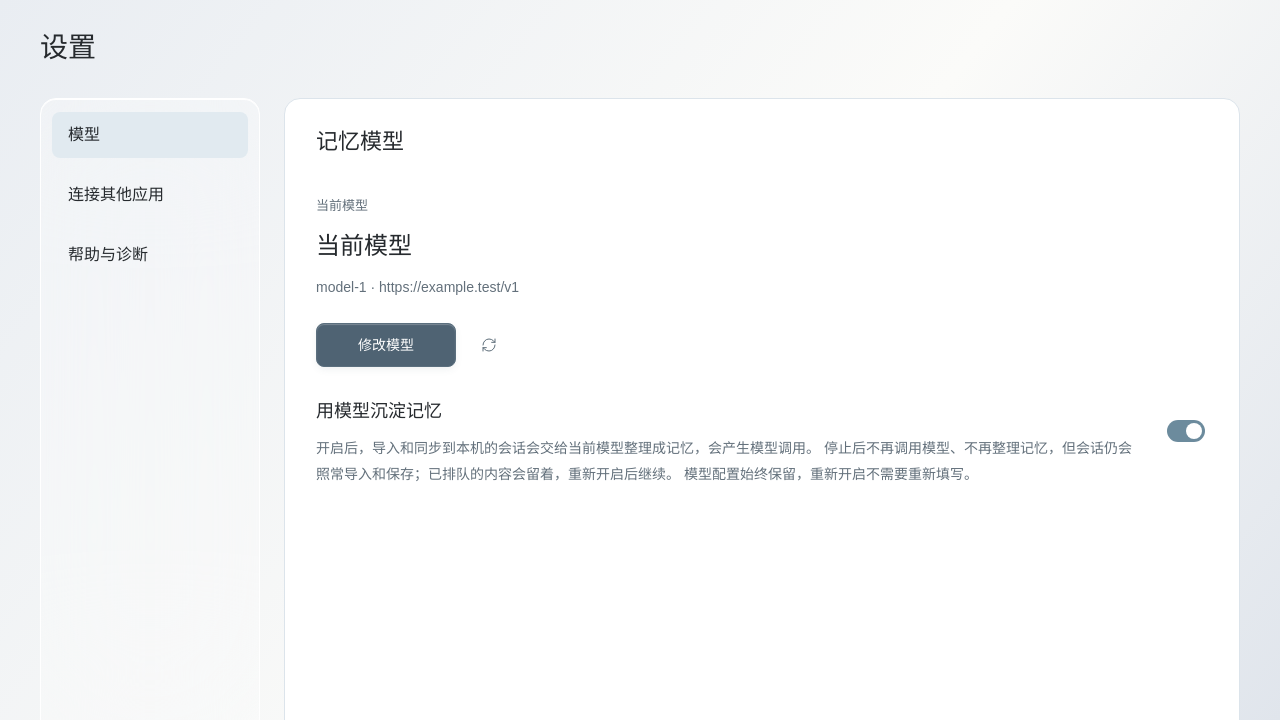
Scenario: shows the help and diagnostics group by default and hides it when opted out
Click the button "帮助与诊断": [150, 255] box x1=52 y1=232 x2=248 y2=278
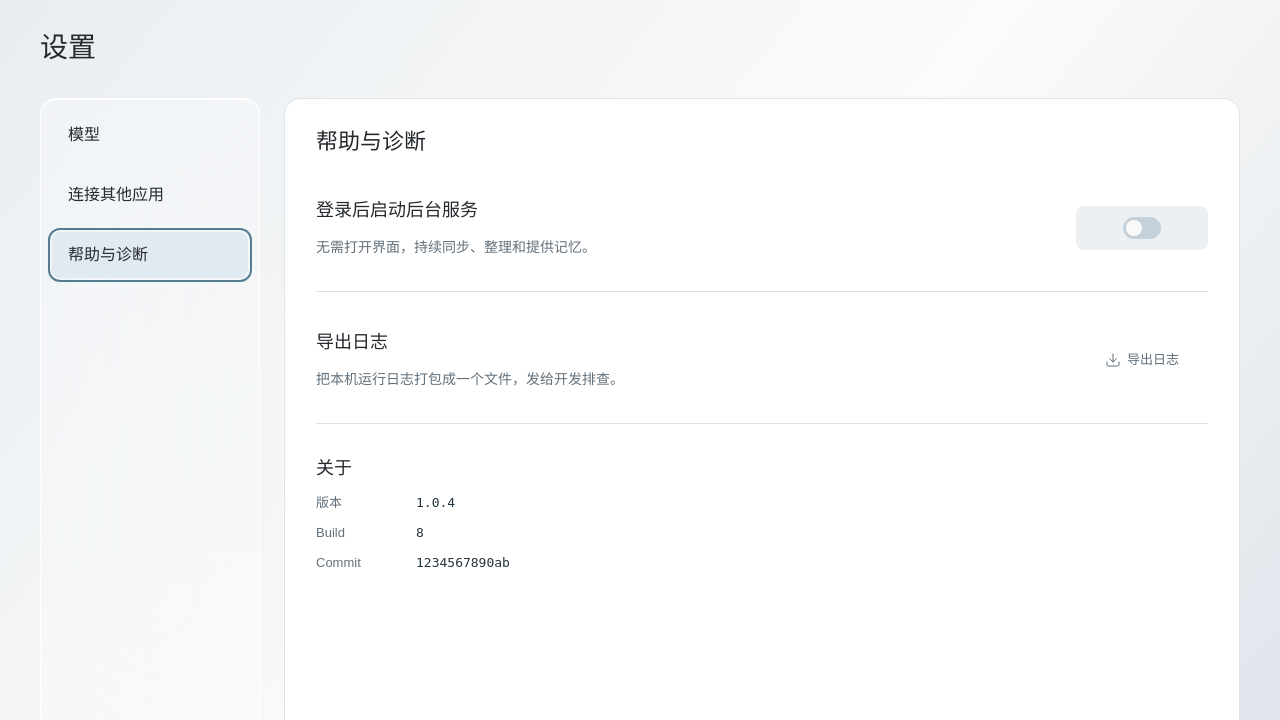
expect the heading "帮助与诊断" is shown: met, box x1=316 y1=129 x2=426 y2=154
expect the heading "导出日志" is shown: met, box x1=316 y1=332 x2=388 y2=352
expect the heading "关于" is shown: met, box x1=316 y1=458 x2=352 y2=478
